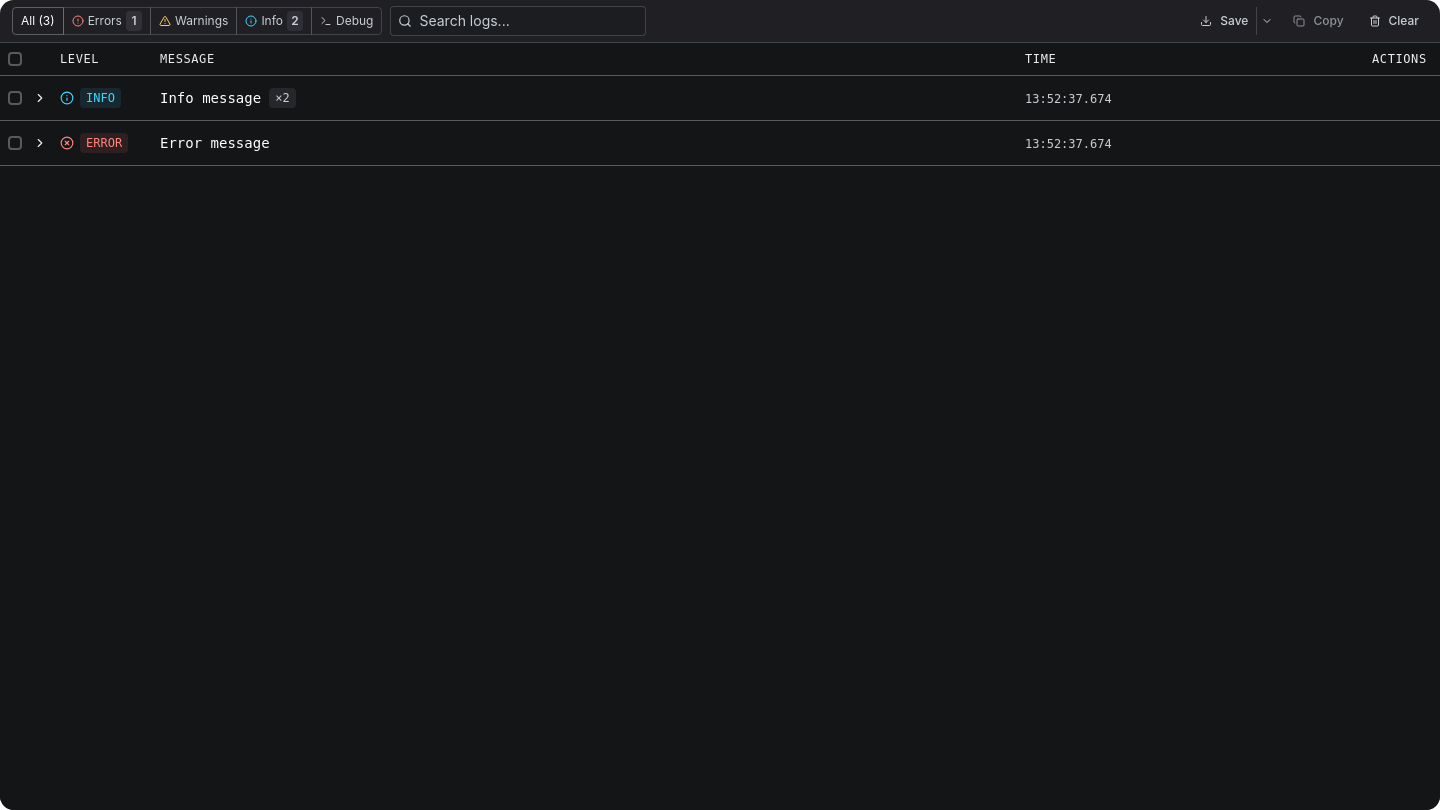
ConsolePanel (Migrated to VirtualDataGrid) › maintains filtering by level
The width and height of the screenshot is (1440, 810).
Expected: the text "Info message" is shown, [160, 88, 261, 108]
// Filter by error level
Click the button "Errors 1" at (107, 21), box [63, 7, 151, 35]
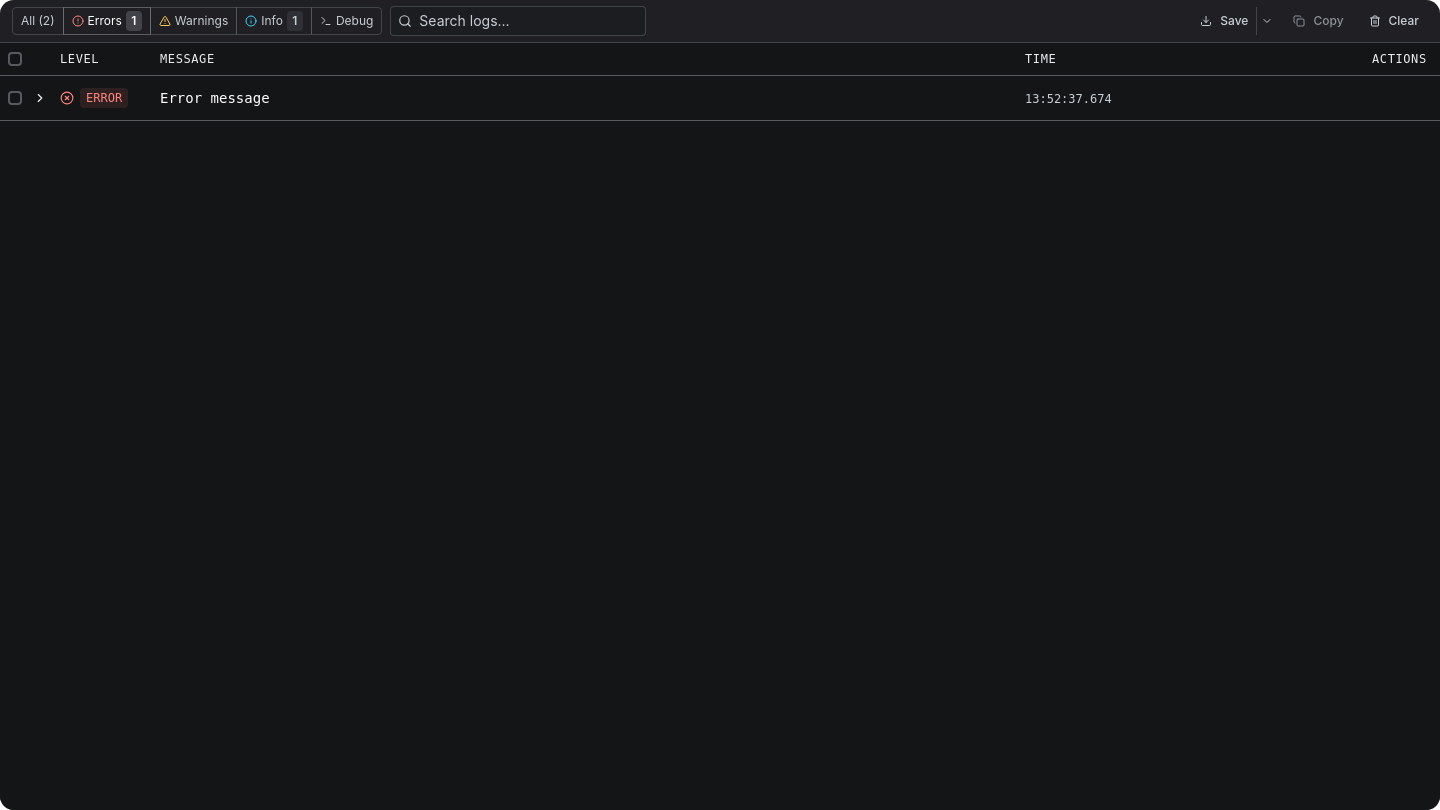
Expected: the text "Error message" is shown, [160, 88, 270, 108]
Expected: the text "Info message" is gone
